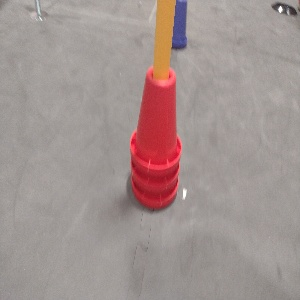Blue_1: (171, 0, 189, 52)
Red_3: (129, 61, 182, 209)
